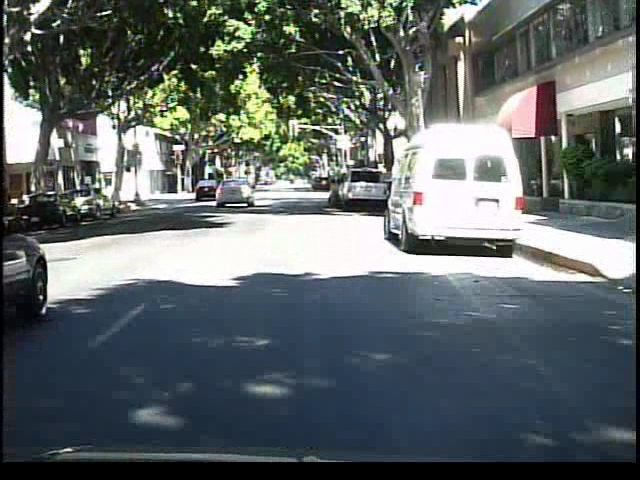person: (235, 172, 256, 207)
